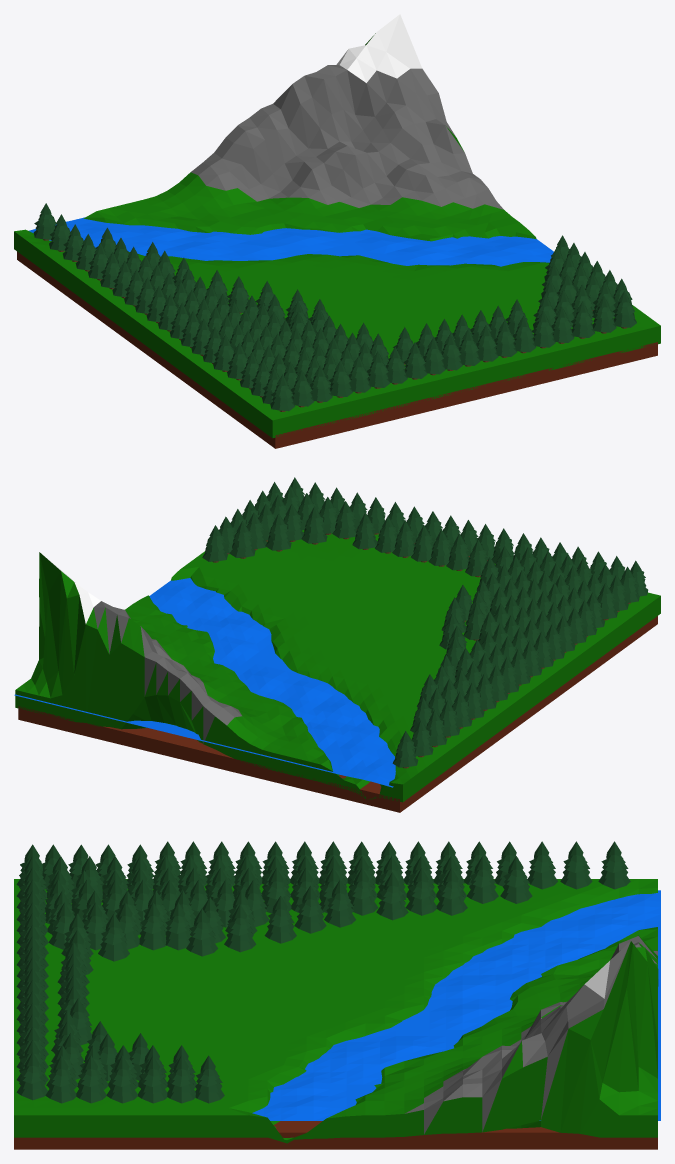
File: sceneV2.glb
3 renders of one model, top to bottom at view 1: azimuth 30°, elevation 25°; view 2: azimuth 150°, elevation 25°; view 3: azimuth 270°, elevation 25°, orthographic. The views are drawn at different scales.
Parts seen in each view (by area): view 1: Cube.001, Plan, Cube; view 2: Cube.001, Plan, Cube, Pinetree_01_0.045, Pinetree_01_0.042, Pinetree_01_0.037, Pinetree_01_0.047, Pinetree_01_0.063, Pinetree_01_0.036, Pinetree_01_0.121, Pinetree_01_0.116, Pinetree_01_0.119 (+7 smaller); view 3: Cube.001, Plan, Cube, Pinetree_01_0.075, Pinetree_01_0.115, Pinetree_01_0.063, Pinetree_01_0.096, Pinetree_01_0.097, Pinetree_01_0.098, Pinetree_01_0.035, Pinetree_01_0.112, Pinetree_01_0.085 (+32 smaller).
Boxes of the visible parts, x1,y1,x2,y2 form: Cube.001: [14, 14, 660, 438]; Plan: [29, 217, 553, 266]; Cube: [17, 251, 657, 448]; Cube.001: [15, 530, 660, 802]; Plan: [14, 578, 395, 787]; Cube: [18, 616, 657, 812]; Pinetree_01_0.045: [301, 506, 327, 544]; Pinetree_01_0.042: [265, 513, 291, 551]; Pinetree_01_0.037: [229, 520, 255, 558]; Pinetree_01_0.047: [332, 501, 356, 539]; Pinetree_01_0.063: [392, 731, 418, 768]; Pinetree_01_0.036: [202, 525, 227, 562]; Pinetree_01_0.121: [352, 512, 377, 549]; Pinetree_01_0.116: [446, 533, 469, 570]; Pinetree_01_0.119: [392, 520, 415, 557]; Cube.001: [14, 879, 658, 1143]; Plan: [252, 890, 660, 1120]; Cube: [14, 1121, 657, 1149]; Pinetree_01_0.075: [467, 856, 498, 903]; Pinetree_01_0.115: [186, 908, 218, 956]; Pinetree_01_0.063: [598, 841, 630, 889]; Pinetree_01_0.096: [264, 895, 296, 943]; Pinetree_01_0.097: [294, 885, 326, 933]; Pinetree_01_0.098: [324, 880, 355, 927]; Pinetree_01_0.035: [167, 1055, 195, 1103]; Pinetree_01_0.112: [98, 914, 129, 961]; Pinetree_01_0.085: [376, 872, 408, 920].
Size of the model in its own units: 18.35 by 7.37 by 21.08.
